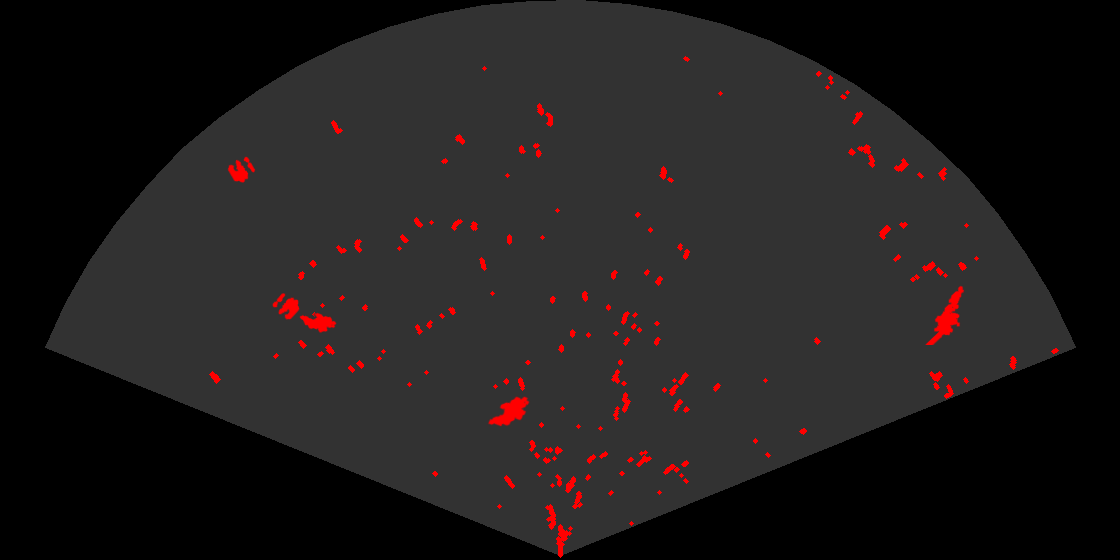AUV: (486, 395, 531, 428), (298, 311, 338, 335)
ball: (226, 155, 257, 184), (271, 292, 301, 321)
frogman: (924, 284, 966, 345)
